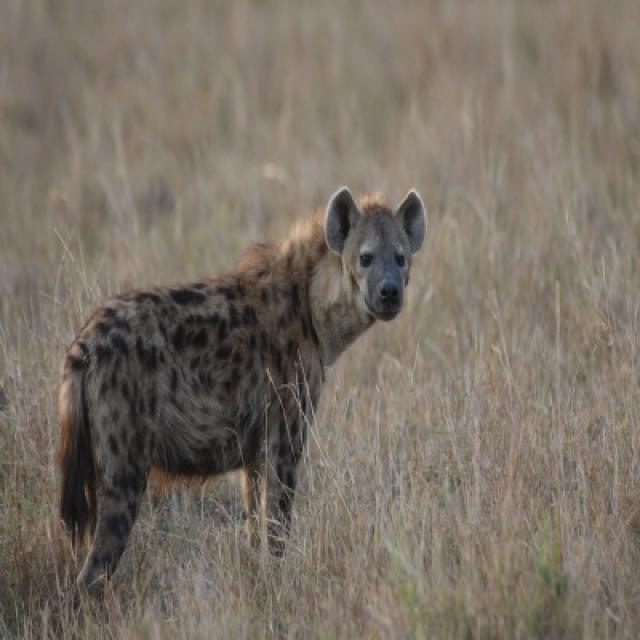hyena: (58, 189, 429, 595)
